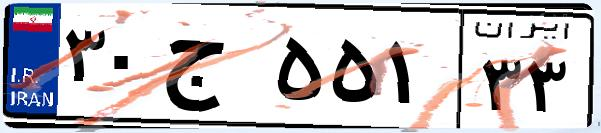0: (110, 28, 158, 98)
1: (385, 28, 445, 110)
3: (57, 26, 110, 100), (475, 38, 525, 113), (525, 38, 570, 115)
5: (270, 28, 330, 110), (330, 28, 385, 110)
ج: (158, 20, 270, 120)
